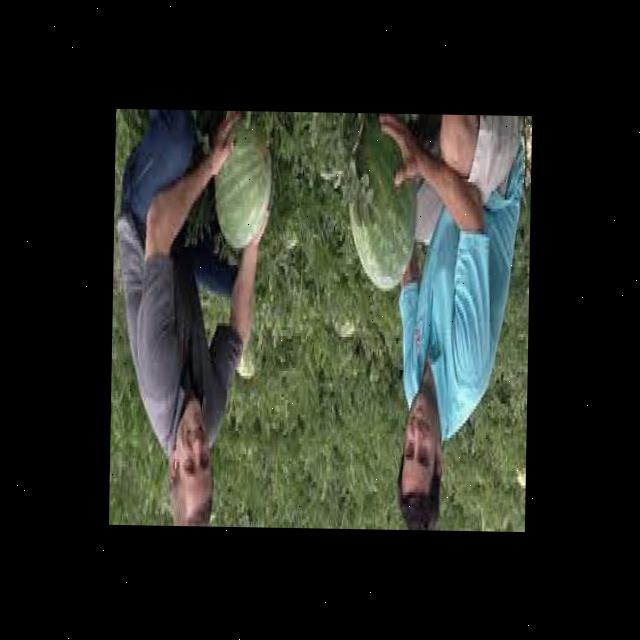watermelon: (346, 114, 418, 292), (213, 122, 274, 249), (234, 334, 257, 378), (330, 305, 359, 337), (277, 208, 297, 250), (514, 465, 526, 489)
